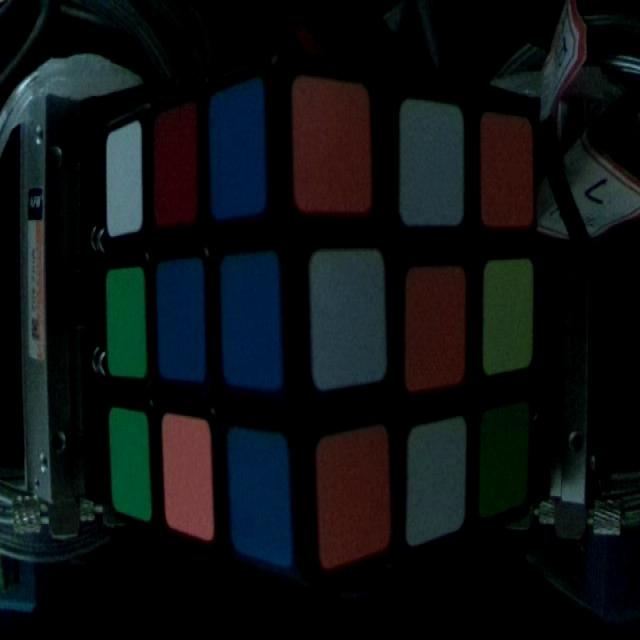b: (229, 425, 292, 559), (208, 90, 265, 224), (224, 257, 278, 392), (157, 263, 203, 381)
g: (484, 412, 532, 512), (109, 271, 146, 381), (110, 409, 146, 520)
o: (294, 84, 372, 215), (321, 437, 387, 559), (407, 268, 464, 387), (162, 414, 212, 536), (481, 111, 532, 229)
r: (158, 113, 198, 221)
w: (312, 250, 383, 387), (402, 104, 462, 226), (408, 429, 468, 544), (108, 131, 144, 237)
y: (488, 264, 532, 376)
